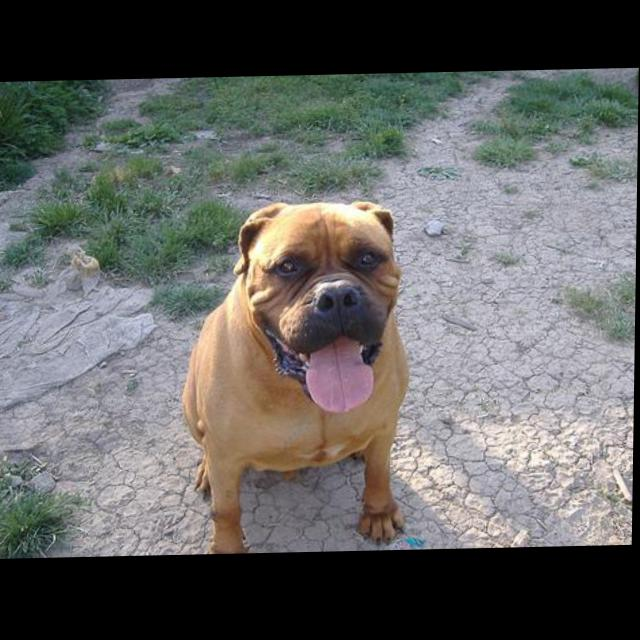bullmastiff: (184, 199, 416, 556)
